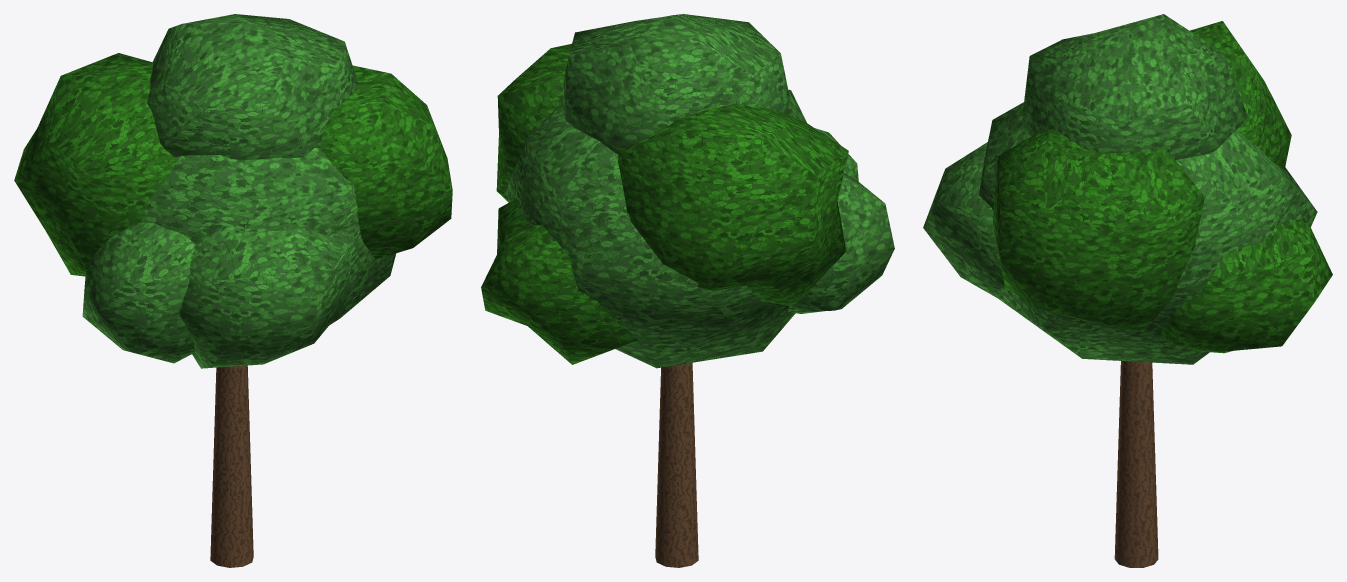
The model's file is tree.glb.
3 renders of one model, left to right at view 1: azimuth 30°, elevation 25°; view 2: azimuth 150°, elevation 25°; view 3: azimuth 270°, elevation 25°, orthographic.
Parts seen in each view (by area): view 1: Tree; view 2: Tree; view 3: Tree.
Boxes of the visible parts, x1,y1,x2,y2 form: Tree: [14, 14, 452, 567]; Tree: [481, 14, 894, 567]; Tree: [923, 14, 1332, 567].
Size of the model in its own units: 3.76 by 5.34 by 3.74.
Materials: 3 (3 with a texture image).
